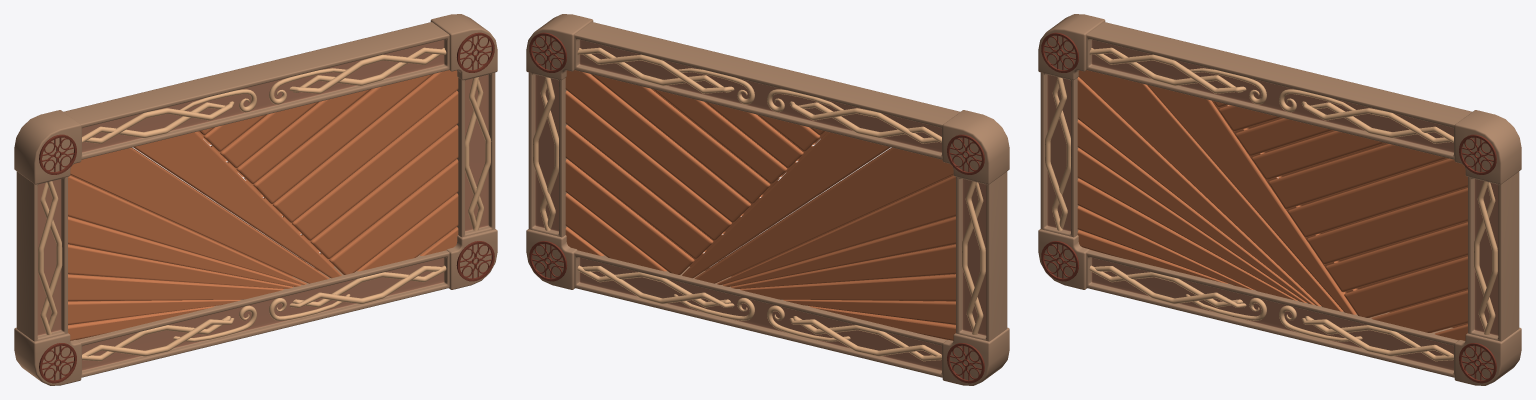
The model's file is WallRun_A_DoubleSided.fbx.
3 renders of one model, left to right at view 1: azimuth 30°, elevation 25°; view 2: azimuth 150°, elevation 25°; view 3: azimuth 330°, elevation 25°, orthographic.
Parts seen in each view (by area): view 1: WallRun_A_DoubleSided; view 2: WallRun_A_DoubleSided; view 3: WallRun_A_DoubleSided.
Part boxes in pixels (x1,y1,x2,y2): WallRun_A_DoubleSided: [14, 14, 497, 385]; WallRun_A_DoubleSided: [526, 14, 1009, 385]; WallRun_A_DoubleSided: [1038, 14, 1521, 385].
Size of the model in its own units: 1123 by 594 by 96.29.
